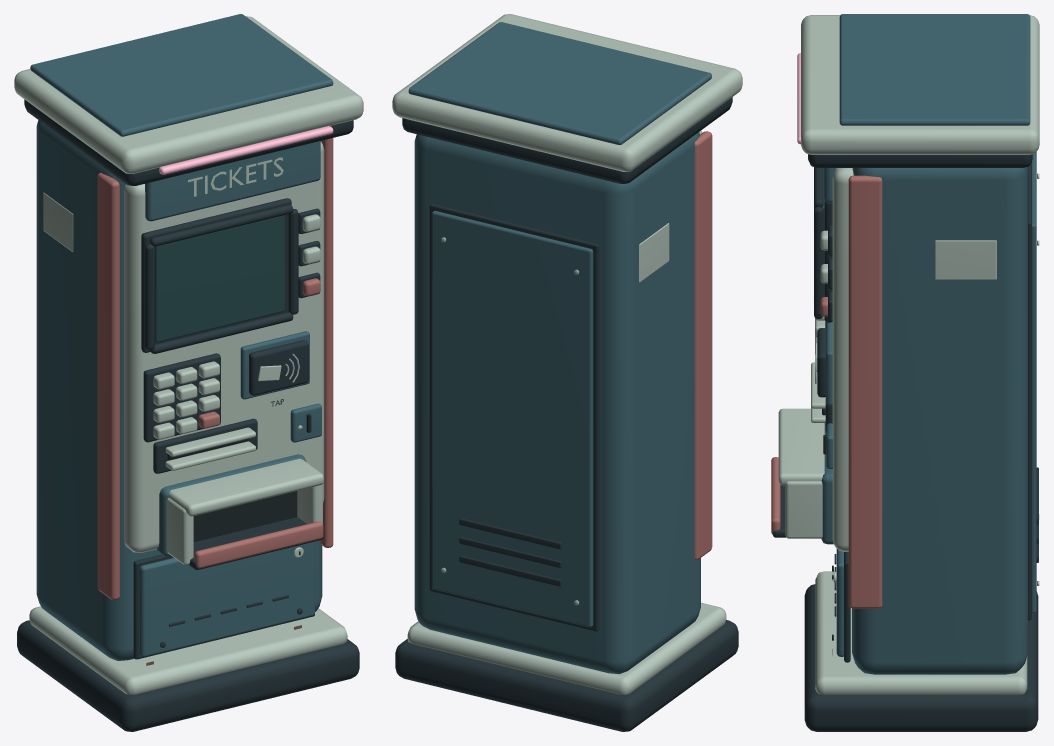
Rendered from Ticket Booth.fbx.
3 renders of one model, left to right at view 1: azimuth 30°, elevation 25°; view 2: azimuth 150°, elevation 25°; view 3: azimuth 270°, elevation 25°, orthographic. The views are drawn at different scales.
Parts seen in each view (by area): view 1: TicketMachine__Canopy_Teal, TicketMachine__Frame_Sage, TicketMachine__Metal_Charcoal, TicketMachine__Bench_Rose, TicketMachine__Ticket_Screen, TicketMachine__Rubber, TicketMachine__Light_Rose; view 2: TicketMachine__Canopy_Teal, TicketMachine__Metal_Charcoal, TicketMachine__Frame_Sage, TicketMachine__Bench_Rose; view 3: TicketMachine__Canopy_Teal, TicketMachine__Frame_Sage, TicketMachine__Metal_Charcoal, TicketMachine__Bench_Rose.
Boxes of the visible parts, box(x1,y1,x2,y2) form: TicketMachine__Canopy_Teal: box(30, 14, 333, 660); TicketMachine__Frame_Sage: box(14, 16, 363, 694); TicketMachine__Metal_Charcoal: box(17, 99, 359, 731); TicketMachine__Bench_Rose: box(97, 138, 333, 599); TicketMachine__Ticket_Screen: box(154, 215, 284, 342); TicketMachine__Rubber: box(167, 414, 311, 541); TicketMachine__Light_Rose: box(159, 126, 333, 174); TicketMachine__Canopy_Teal: box(408, 22, 711, 674); TicketMachine__Metal_Charcoal: box(395, 97, 738, 731); TicketMachine__Frame_Sage: box(392, 14, 742, 694); TicketMachine__Bench_Rose: box(694, 131, 712, 559); TicketMachine__Canopy_Teal: box(821, 14, 1036, 674); TicketMachine__Frame_Sage: box(778, 15, 1039, 695); TicketMachine__Metal_Charcoal: box(773, 154, 1038, 731); TicketMachine__Bench_Rose: box(771, 175, 882, 608).
Size of the model in its own units: 80 by 187 by 74.75.
